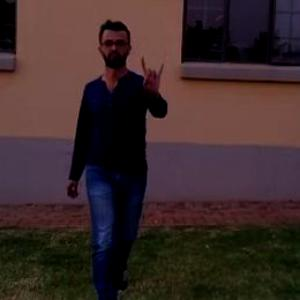takeoff-hand: (139, 52, 169, 106)
